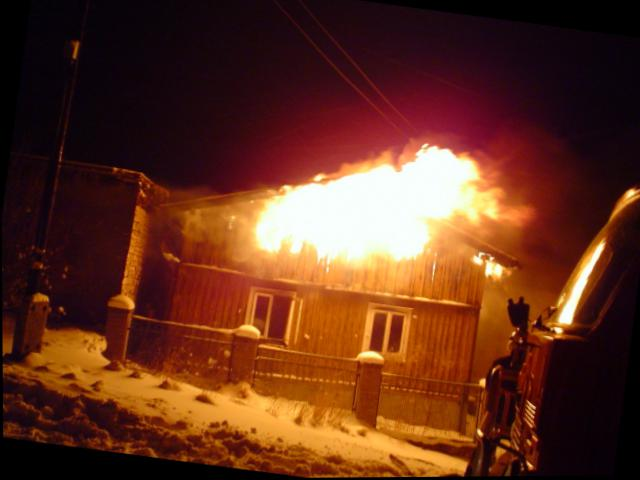fire: (213, 96, 544, 308)
